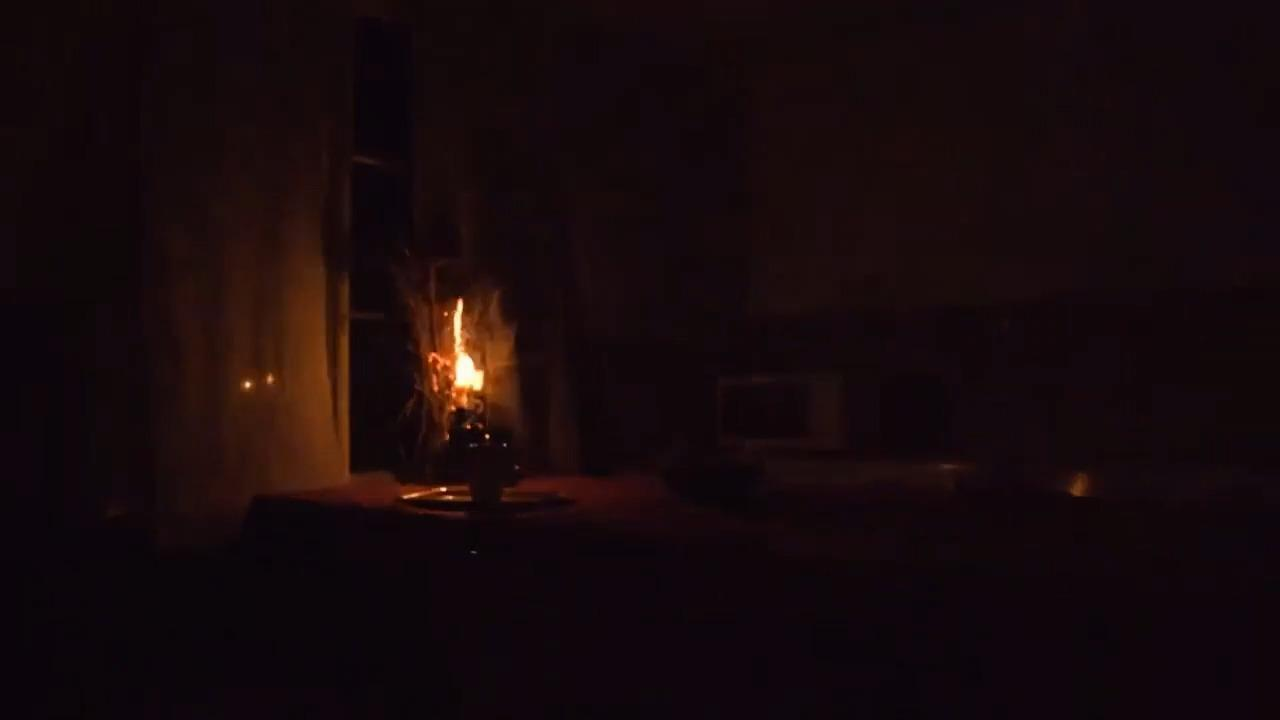fire: (436, 281, 497, 398)
